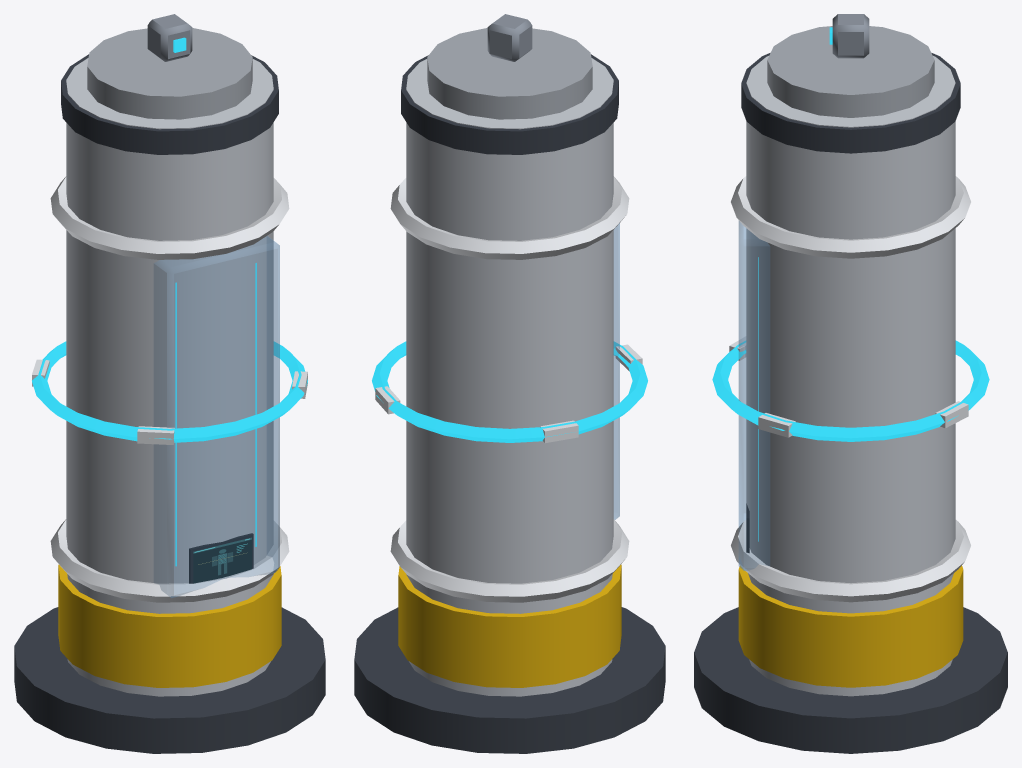
File: medscanner_bio_scanner_pillar.glb
3 views of the same model, side by side, from view 1: azimuth 30°, elevation 25°; view 2: azimuth 150°, elevation 25°; view 3: azimuth 270°, elevation 25° (orthographic).
Parts seen in each view (by area): view 1: medscanner_bio_scanner_pillar; view 2: medscanner_bio_scanner_pillar; view 3: medscanner_bio_scanner_pillar.
Part boxes in pixels (x1,y1,x2,y2): medscanner_bio_scanner_pillar: [14, 14, 325, 753]; medscanner_bio_scanner_pillar: [354, 14, 665, 753]; medscanner_bio_scanner_pillar: [694, 14, 1007, 753].
Bounding box in the file's own units: 1.2 × 2.82 × 1.2.
10 materials, 1 textured.
